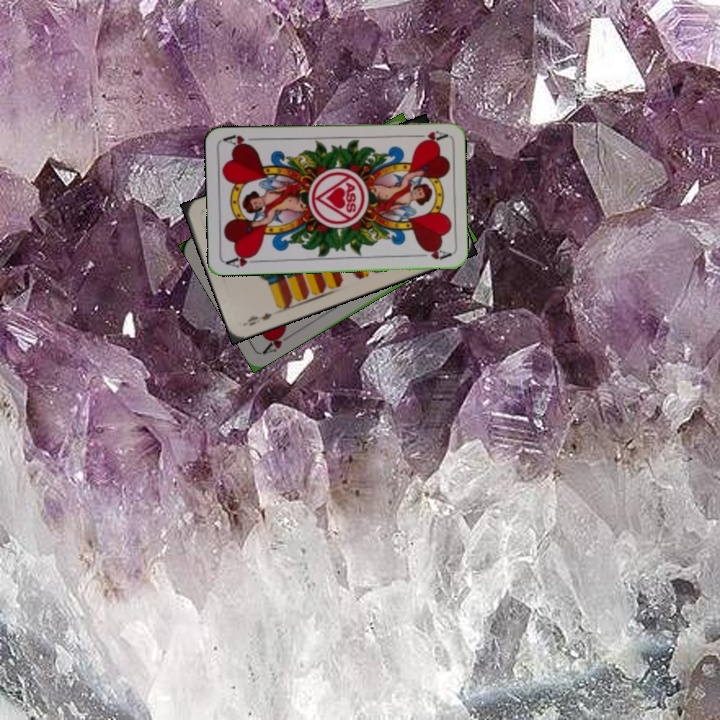E9: (241, 309, 274, 328)
HA: (259, 326, 295, 357), (223, 250, 263, 270), (408, 127, 449, 145)
